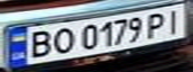0: (75, 20, 100, 51)
1: (96, 18, 115, 47)
7: (109, 16, 130, 46)
9: (124, 14, 148, 43)
B: (21, 28, 54, 60)
I: (160, 6, 190, 35)
O: (48, 25, 78, 55)
P: (142, 10, 172, 39)
